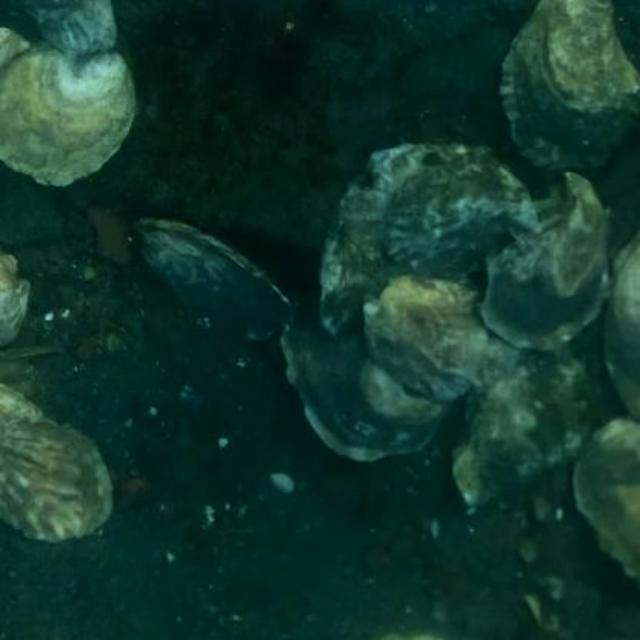Oyster-Closed: (319, 143, 540, 331), (279, 294, 453, 465), (454, 317, 605, 506), (501, 0, 638, 169), (137, 217, 293, 342), (0, 40, 136, 183), (0, 382, 112, 541), (365, 275, 487, 399), (575, 416, 638, 584), (605, 231, 638, 422), (10, 0, 118, 53), (0, 247, 31, 347), (0, 27, 31, 75)
Oyster-Open: (483, 172, 611, 349)
